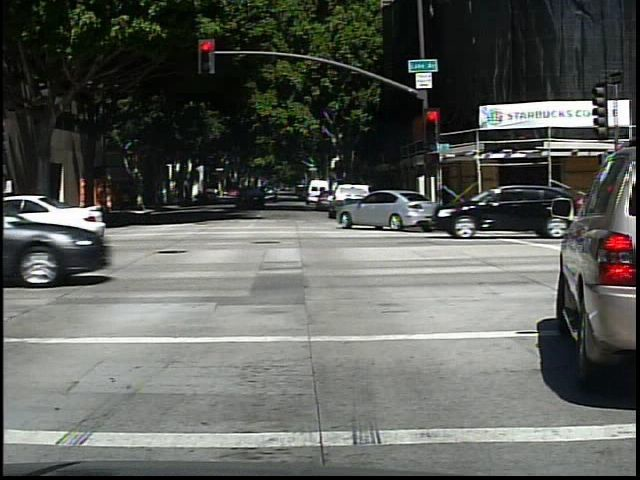person: (94, 186, 109, 220)
